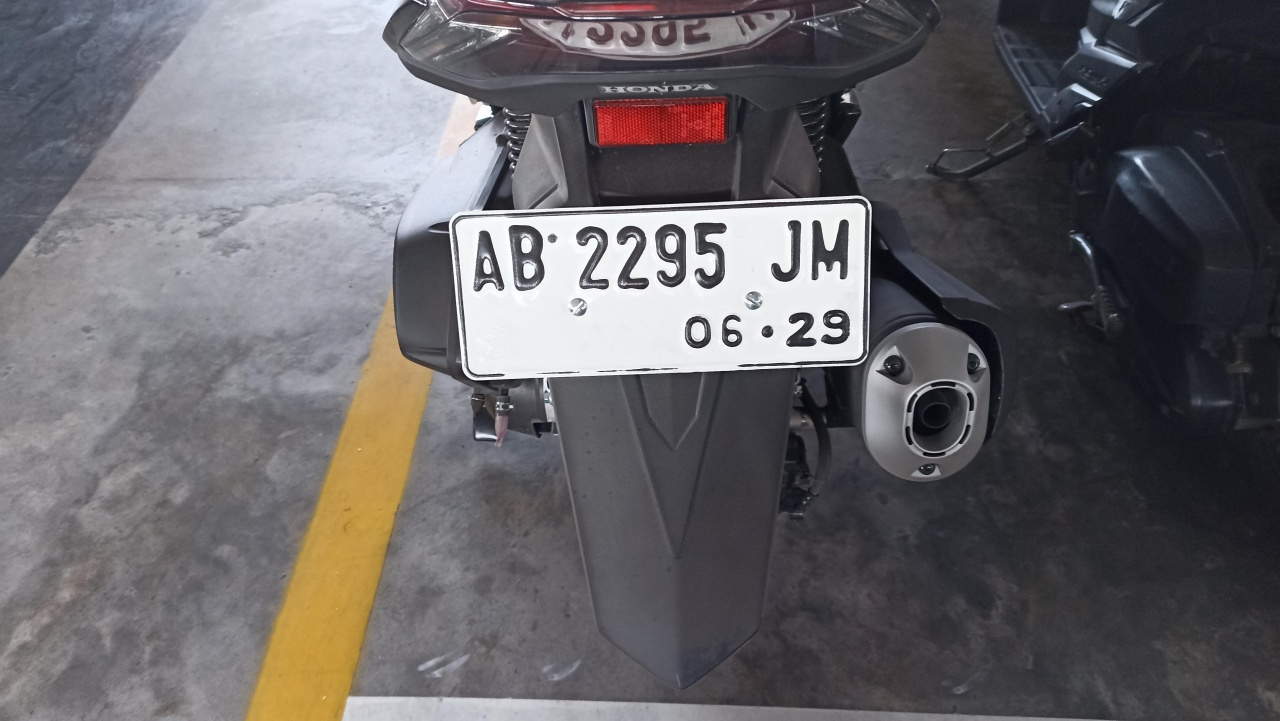plate: (450, 199, 871, 383)
